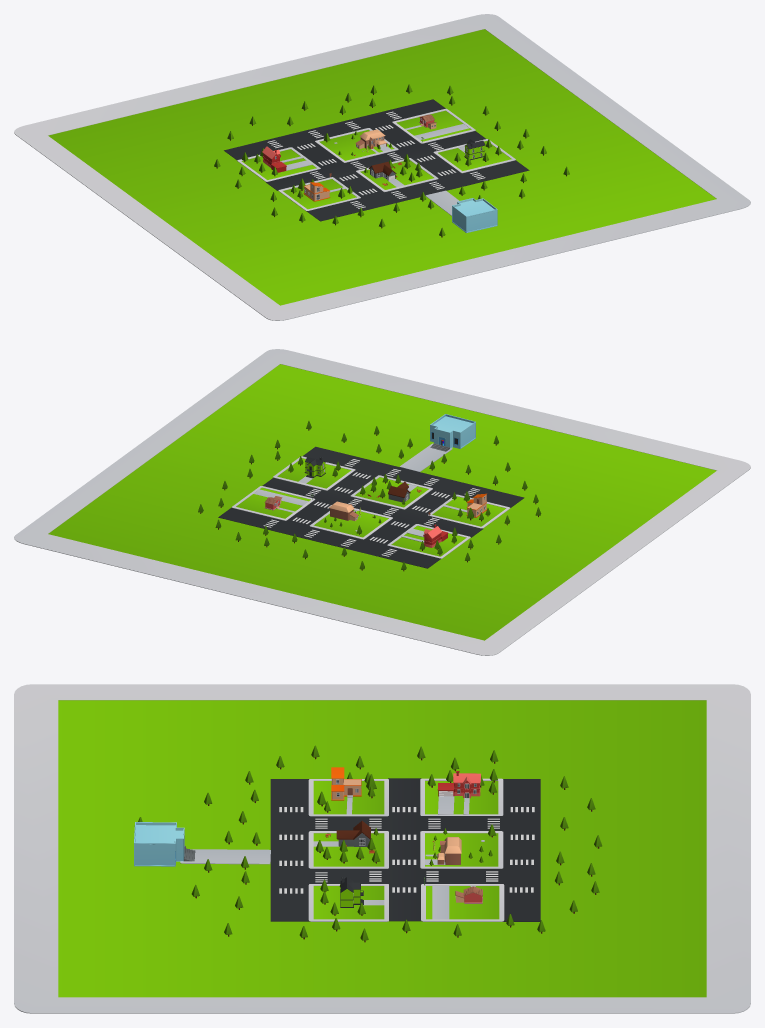
Rendered from bitti.fbx.
The picture shows the model from 3 angles, top to bottom: view 1: azimuth 30°, elevation 25°; view 2: azimuth 150°, elevation 25°; view 3: azimuth 270°, elevation 25°; orthographic projection. The views are drawn at different scales.
Visible parts, largest first — view 1: Cube.019, Cube.021, ca, Cube.015, Cube, Cube.030, Cube.020, Cube.018, Cube.016; view 2: Cube.019, Cube.021, Cube, Cube.015, Cube.020, ca, Cube.030, Cube.016, Cube.018, Cube.110; view 3: Cube.019, Cube.021, Cube, Cube.030, Cube.015, Cube.020, ca, Cube.016, Cube.018, Cube.110, Cube.081.
Part boxes in pixels (x1=…): Cube.019: x1=14, y1=14, x2=750, y2=320; Cube.021: x1=224, y1=99, x2=529, y2=221; ca: x1=452, y1=198, x2=497, y2=232; Cube.015: x1=392, y1=108, x2=475, y2=143; Cube: x1=315, y1=128, x2=398, y2=162; Cube.030: x1=433, y1=139, x2=515, y2=173; Cube.020: x1=278, y1=177, x2=360, y2=210; Cube.018: x1=237, y1=147, x2=320, y2=181; Cube.016: x1=356, y1=158, x2=438, y2=192; Cube.019: x1=14, y1=349, x2=750, y2=655; Cube.021: x1=218, y1=446, x2=524, y2=568; Cube: x1=309, y1=508, x2=392, y2=539; Cube.015: x1=231, y1=486, x2=315, y2=520; Cube.020: x1=428, y1=494, x2=510, y2=528; ca: x1=430, y1=414, x2=475, y2=448; Cube.030: x1=273, y1=456, x2=355, y2=490; Cube.016: x1=350, y1=475, x2=432, y2=509; Cube.018: x1=387, y1=524, x2=470, y2=558; Cube.110: x1=399, y1=443, x2=452, y2=471; Cube.019: x1=14, y1=684, x2=750, y2=1013; Cube.021: x1=270, y1=778, x2=540, y2=921; Cube: x1=420, y1=831, x2=503, y2=868; Cube.030: x1=308, y1=884, x2=388, y2=921; Cube.015: x1=421, y1=884, x2=504, y2=921; Cube.020: x1=308, y1=779, x2=388, y2=816; ca: x1=134, y1=822, x2=184, y2=866; Cube.016: x1=308, y1=831, x2=388, y2=868; Cube.018: x1=420, y1=778, x2=503, y2=815; Cube.110: x1=180, y1=849, x2=270, y2=864; Cube.081: x1=432, y1=886, x2=449, y2=919.
Bounding box in the file's own units: 17481 × 597 × 16560.
